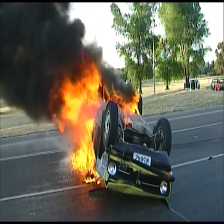fire_h: (51, 50, 103, 177), (108, 86, 140, 115)
fire_l: (84, 177, 101, 185), (124, 116, 133, 125)
